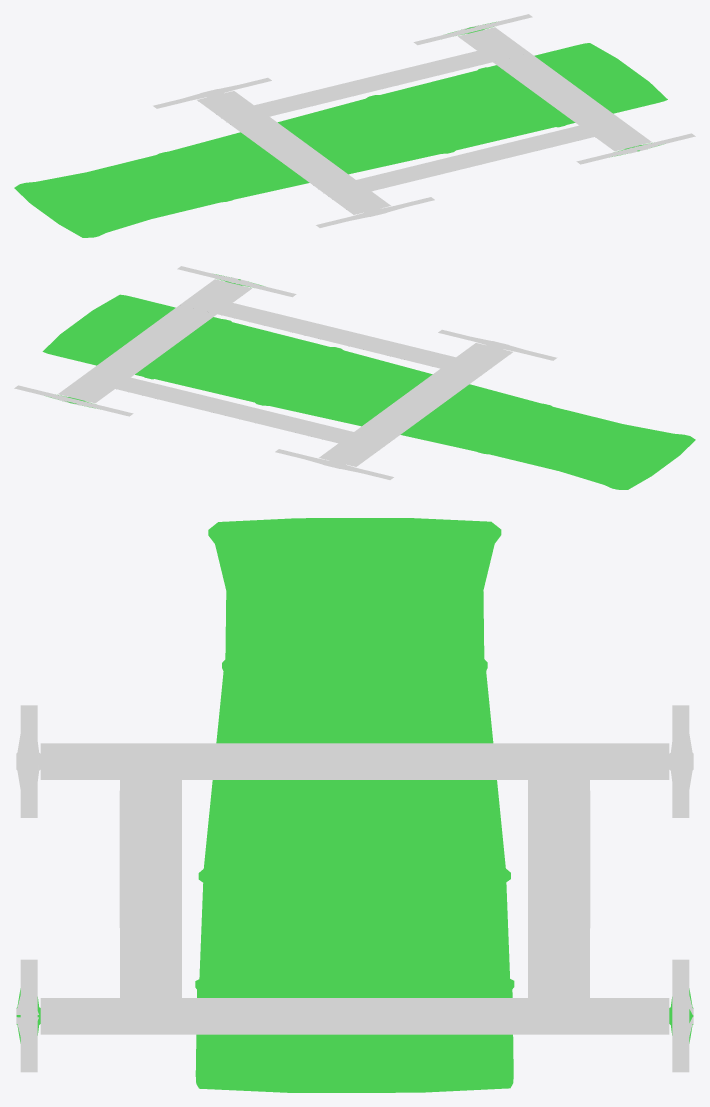
The model's file is noon-cannon.glb.
3 renders of one model, top to bottom at view 1: azimuth 30°, elevation 25°; view 2: azimuth 150°, elevation 25°; view 3: azimuth 270°, elevation 25°, orthographic. The views are drawn at different scales.
Visible parts, largest first — view 1: Canon; view 2: Canon; view 3: Canon.
Boxes of the visible parts, x1,y1,x2,y2 form: Canon: (14,14,695,237); Canon: (14,266,695,489); Canon: (16,518,693,1092).
Size of the model in its own units: 5.32 by 0.000315 by 2.65.
